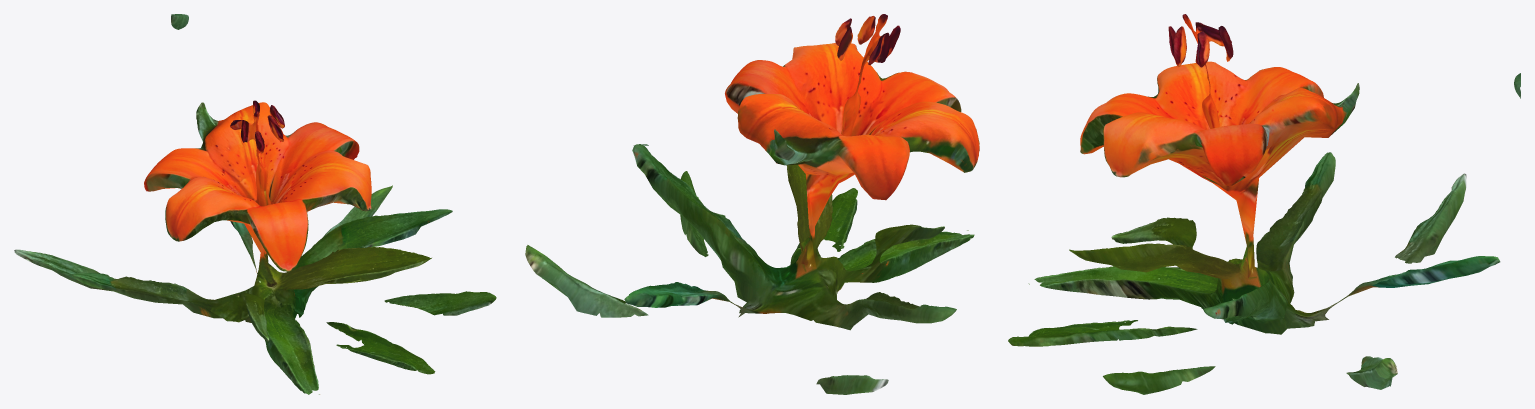
Rendered from orangelily.glb.
The picture shows the model from 3 angles, left to right: view 1: azimuth 30°, elevation 25°; view 2: azimuth 150°, elevation 25°; view 3: azimuth 270°, elevation 25°; orthographic projection. The views are drawn at different scales.
Visible parts, largest first — view 1: g0; view 2: g0; view 3: g0.
Boxes of the visible parts, x1,y1,x2,y2 form: g0: [14, 14, 496, 394]; g0: [525, 14, 979, 394]; g0: [1008, 14, 1520, 394].
Size of the model in its own units: 0.174 by 0.1125 by 0.192.
1 material, 1 textured.
